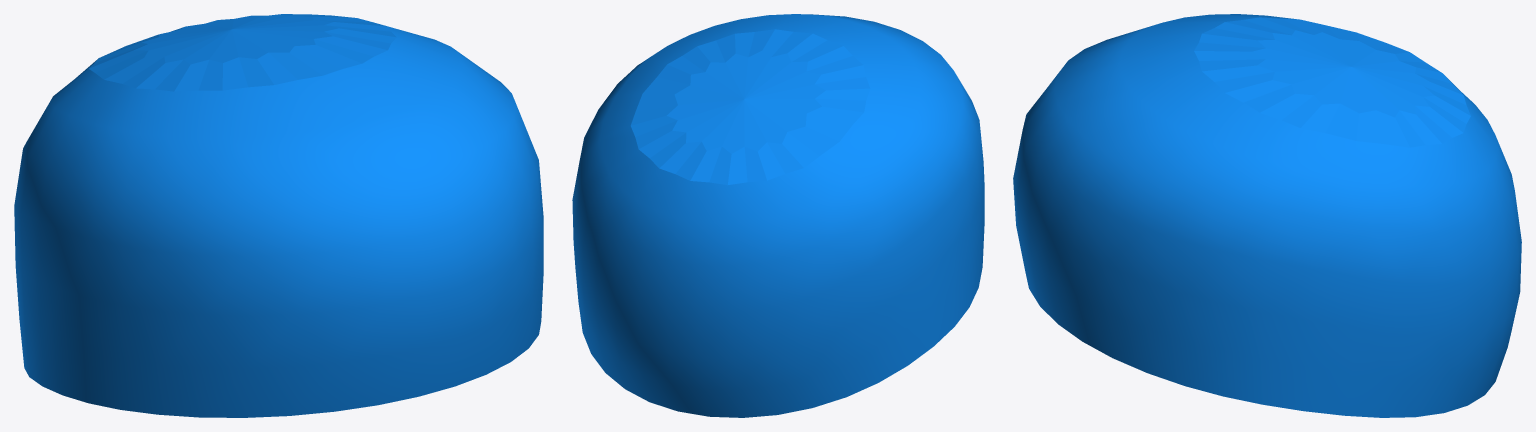
Rendered from DoctorHat.FBX.
The picture shows the model from 3 angles, left to right: view 1: azimuth 30°, elevation 25°; view 2: azimuth 150°, elevation 25°; view 3: azimuth 270°, elevation 25°; orthographic projection. The views are drawn at different scales.
Parts seen in each view (by area): view 1: Cylinder004; view 2: Cylinder004; view 3: Cylinder004.
Part boxes in pixels (x1=…): Cylinder004: x1=14, y1=14, x2=543, y2=417; Cylinder004: x1=572, y1=14, x2=984, y2=417; Cylinder004: x1=1013, y1=14, x2=1521, y2=417.
Size of the model in its own units: 25.96 by 20.09 by 29.37.
